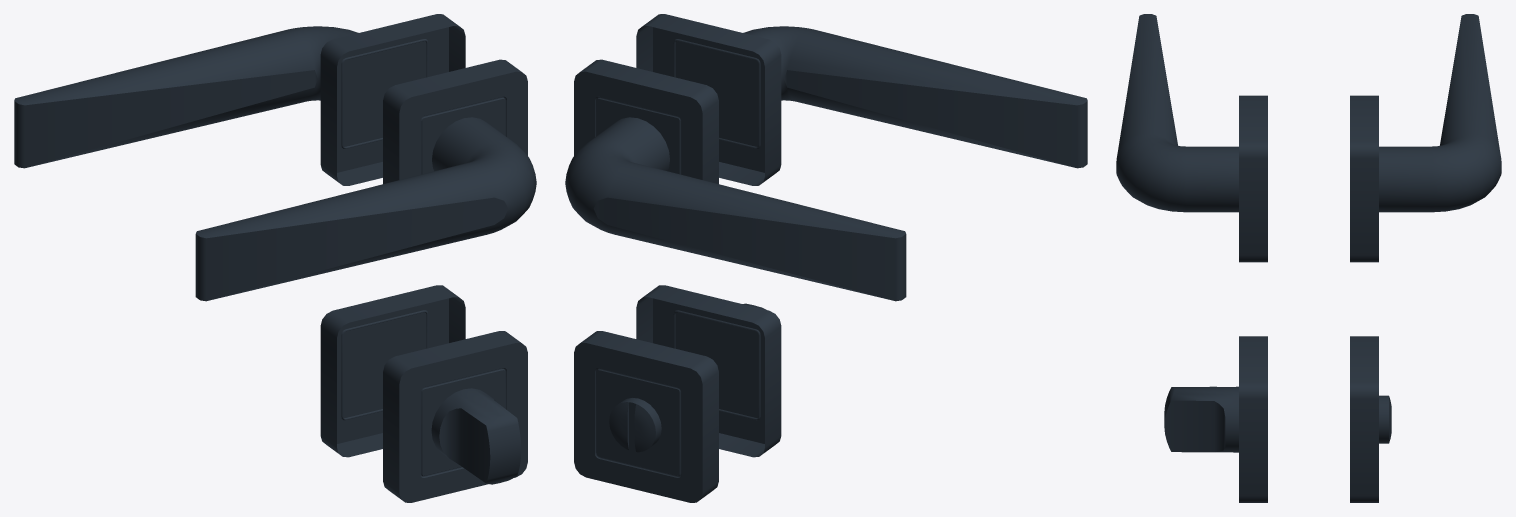
The model's file is 48_ROYAL_Brnak.glb.
3 renders of one model, left to right at view 1: azimuth 30°, elevation 25°; view 2: azimuth 150°, elevation 25°; view 3: azimuth 270°, elevation 25°, orthographic. The views are drawn at different scales.
Parts seen in each view (by area): view 1: 48_ROYAL_Brnak; view 2: 48_ROYAL_Brnak; view 3: 48_ROYAL_Brnak.
Part boxes in pixels (x1,y1,x2,y2): 48_ROYAL_Brnak: (14,14,536,502); 48_ROYAL_Brnak: (565,14,1087,502); 48_ROYAL_Brnak: (1116,14,1501,502).
Bounding box in the file's own units: 0.1721 × 0.1751 × 0.1699.
